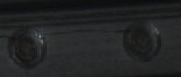joints: (120, 18, 162, 62), (6, 29, 47, 68)
